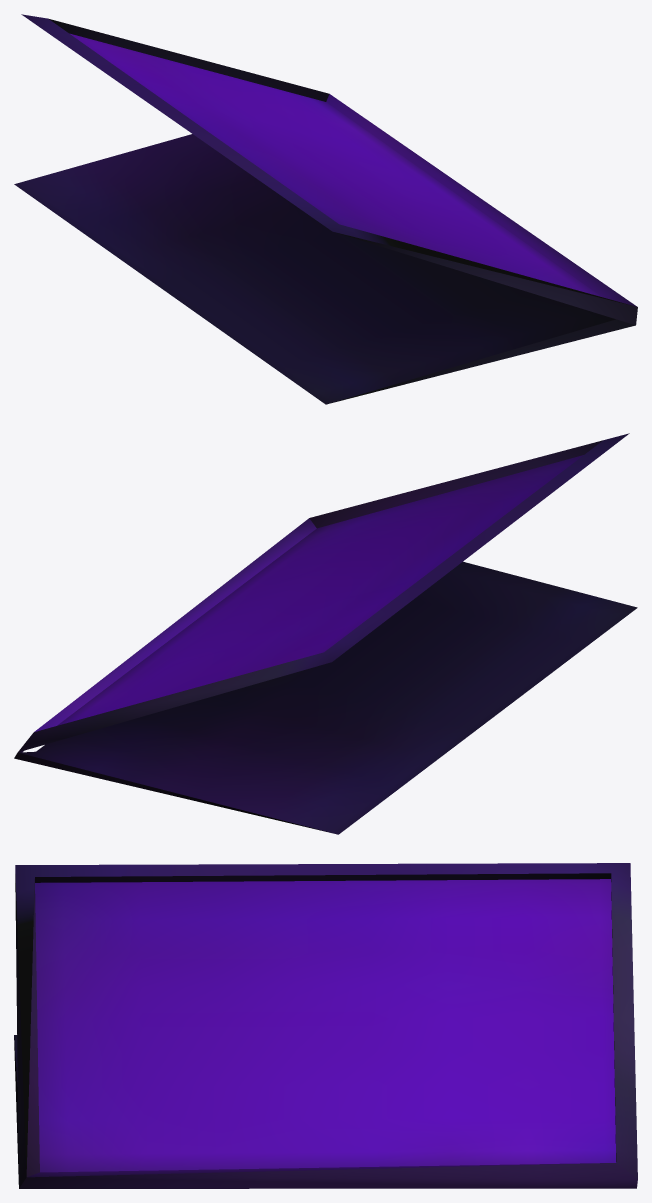
Rendered from tablet.glb.
The picture shows the model from 3 angles, top to bottom: view 1: azimuth 30°, elevation 25°; view 2: azimuth 150°, elevation 25°; view 3: azimuth 270°, elevation 25°; orthographic projection.
Parts seen in each view (by area): view 1: tablet; view 2: tablet; view 3: tablet.
Boxes of the visible parts, box(x1,y1,x2,y2) form: tablet: box(14, 14, 637, 404); tablet: box(14, 433, 637, 834); tablet: box(14, 863, 637, 1188).
Bounding box in the file's own units: 0.1854 × 0.0927 × 0.302.
Materials: 1 (1 with a texture image).
